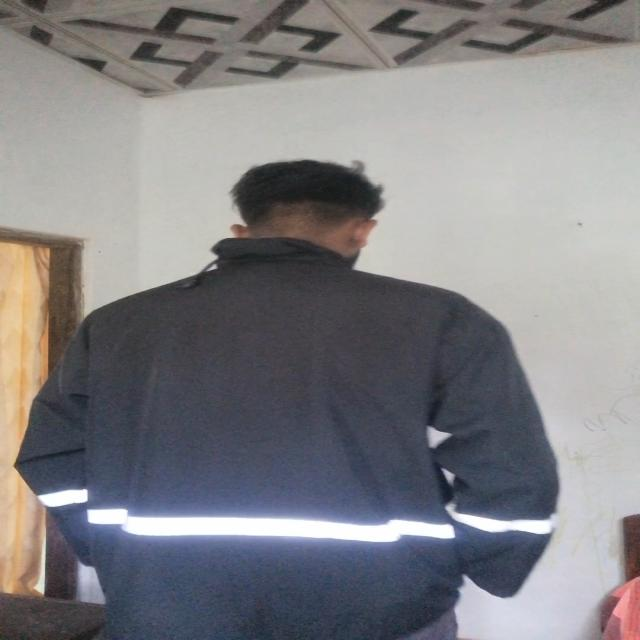Jacket_Wearer: (22, 230, 577, 639)
